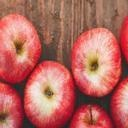apple: (70, 103, 114, 128)
